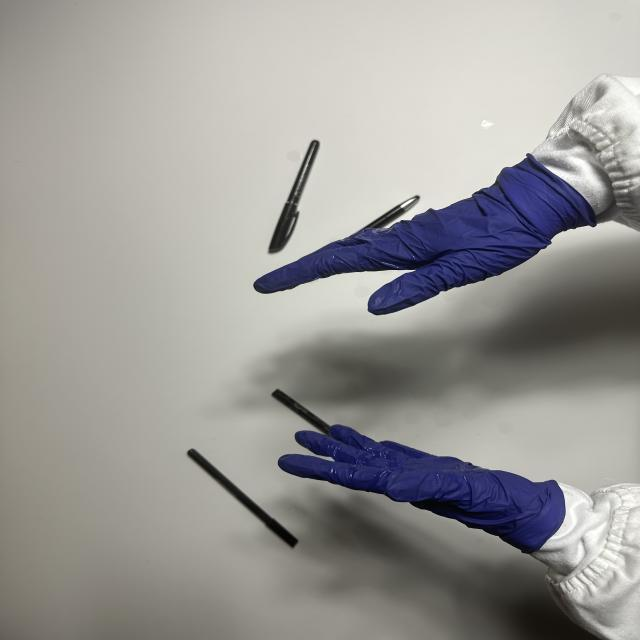gloves_contaminated: (254, 155, 595, 315), (279, 426, 565, 552)
